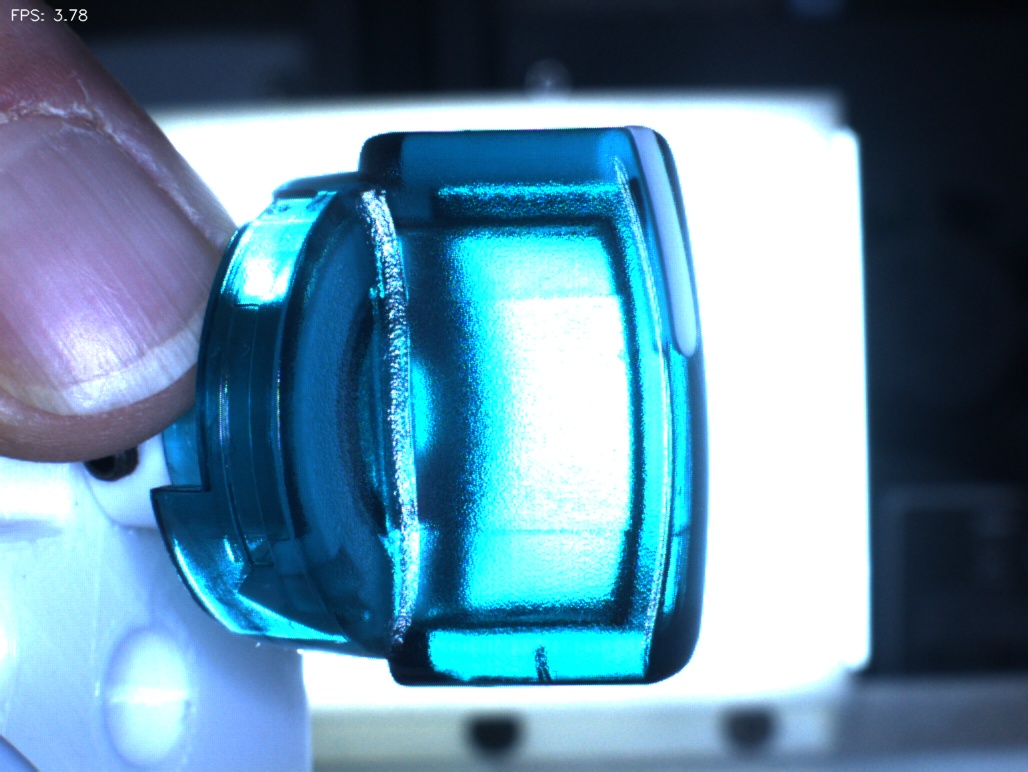Bulle: (499, 630, 594, 727)
